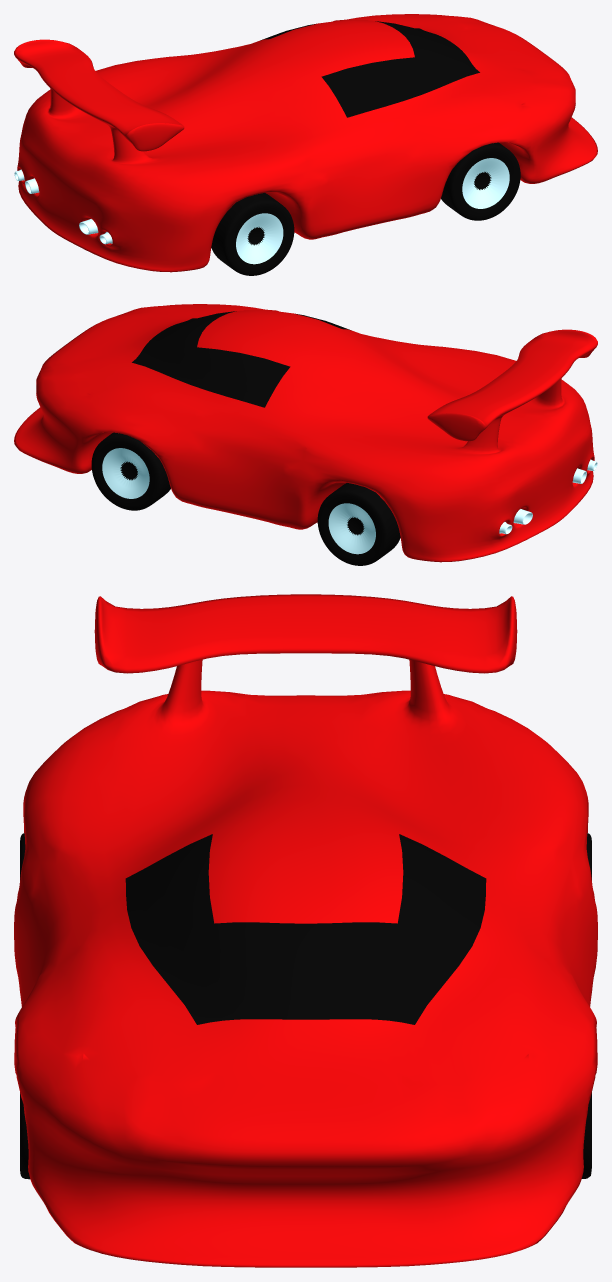
The model's file is 小汽车.glb.
3 renders of one model, top to bottom at view 1: azimuth 30°, elevation 25°; view 2: azimuth 150°, elevation 25°; view 3: azimuth 270°, elevation 25°, orthographic. The views are drawn at different scales.
Visible parts, largest first — view 1: Cube.001; view 2: Cube.001; view 3: Cube.001.
Part boxes in pixels (x1,y1,x2,y2): Cube.001: (14,14,597,275); Cube.001: (14,304,597,565); Cube.001: (14,594,597,1267).
Bounding box in the file's own units: 535 × 160 × 296.
